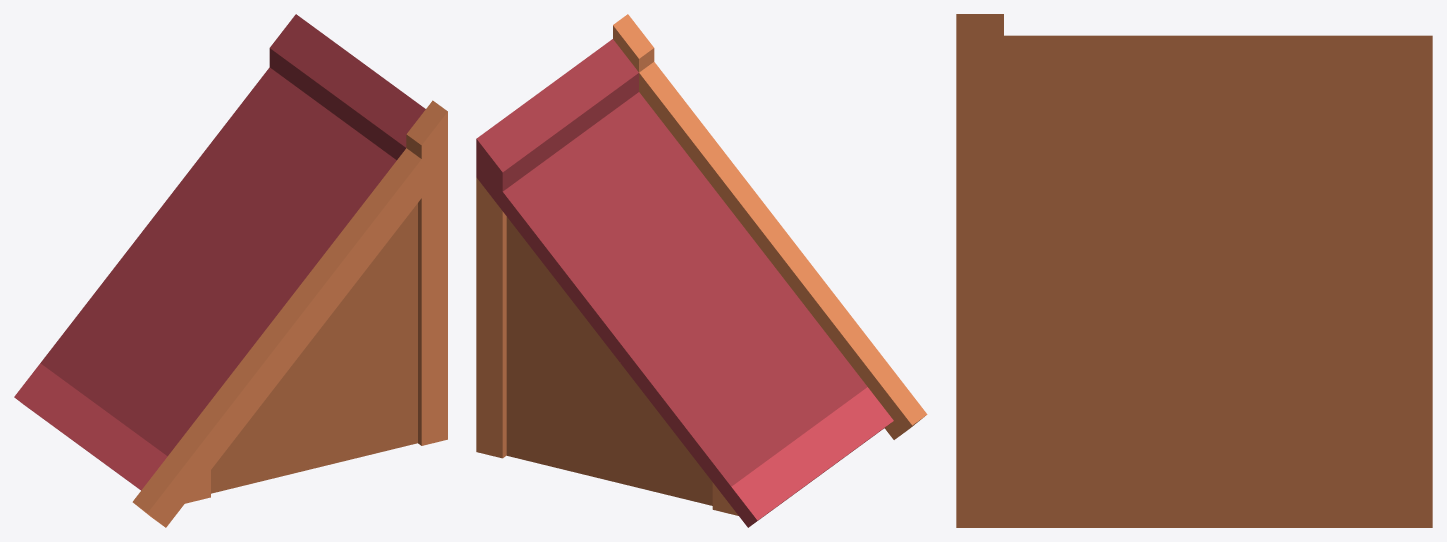
File: roofHighRight.obj
3 renders of one model, left to right at view 1: azimuth 30°, elevation 25°; view 2: azimuth 150°, elevation 25°; view 3: azimuth 270°, elevation 25°, orthographic. The views are drawn at different scales.
Visible parts, largest first — view 1: roofHighRight; view 2: roofHighRight; view 3: roofHighRight.
Boxes of the visible parts, bbox=[...] form: roofHighRight: bbox=[14, 14, 447, 527]; roofHighRight: bbox=[476, 14, 927, 527]; roofHighRight: bbox=[956, 14, 1432, 527].
Bounding box in the file's own units: 1.14 × 1.26 × 1.
